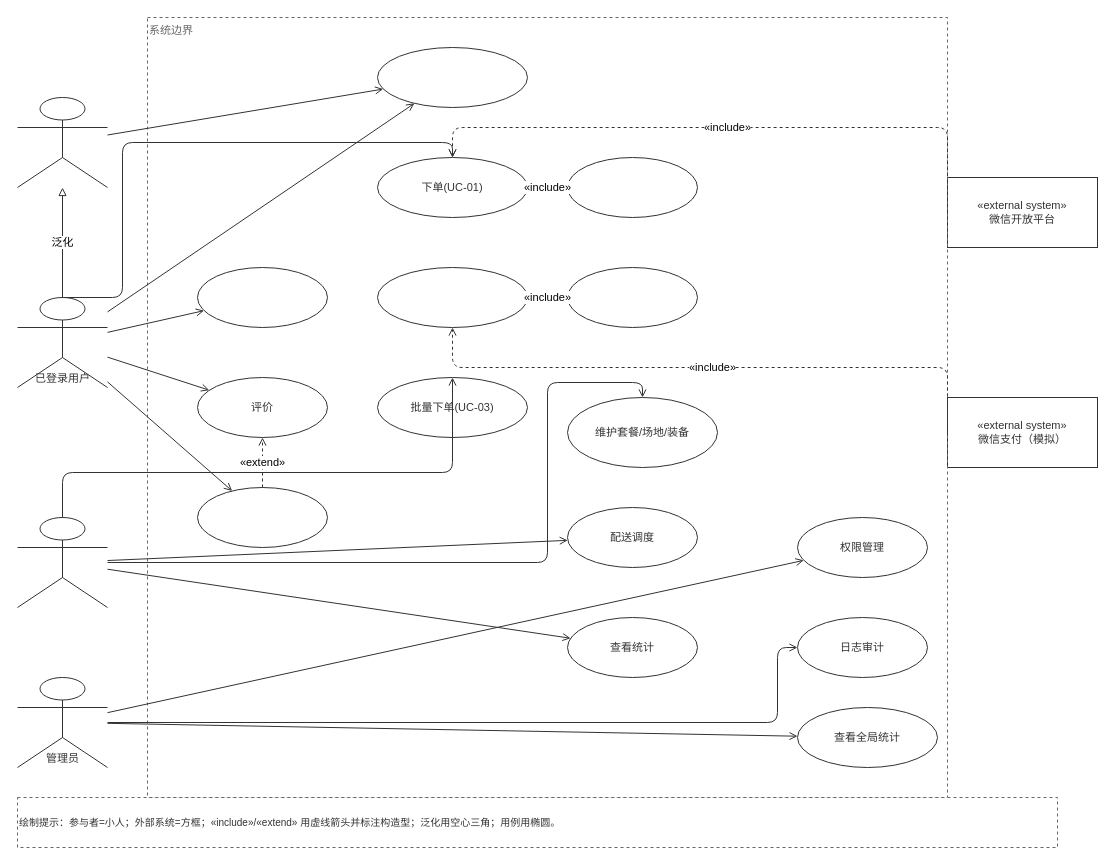
This 1115x865 diagram has some shape labels left out. Each missing label, with the box of its shape:
取消/退款: (196, 486, 328, 548)
四重校验: (566, 156, 698, 218)
应用支付方式: (566, 266, 698, 328)
查询订单: (196, 266, 328, 328)
模拟支付(UC-02): (376, 266, 528, 328)
浏览套餐与场地: (376, 46, 528, 108)
游客: (16, 96, 108, 188)
运营人员: (16, 516, 108, 608)
